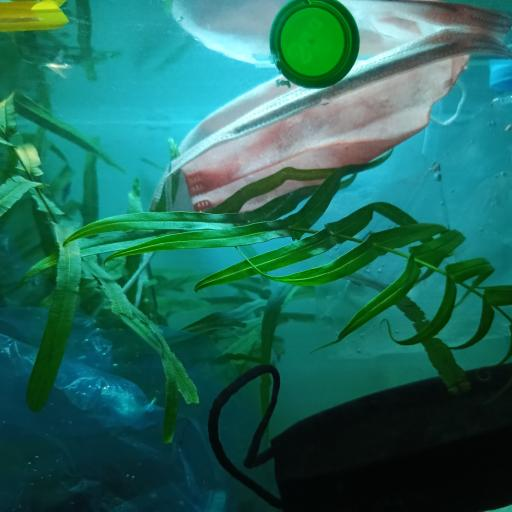bottle_cap: (269, 0, 360, 89), (489, 63, 512, 89)
mask: (142, 28, 505, 216), (206, 361, 511, 512)
plastic_bag: (1, 243, 273, 512)
plastic_straw: (1, 4, 71, 30)
